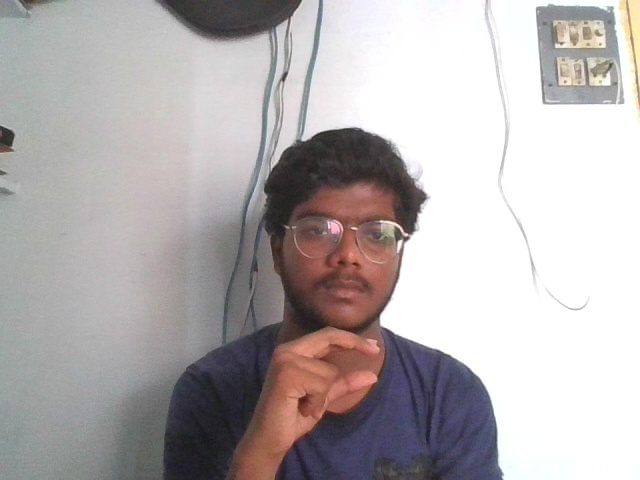No: (239, 323, 388, 441)
